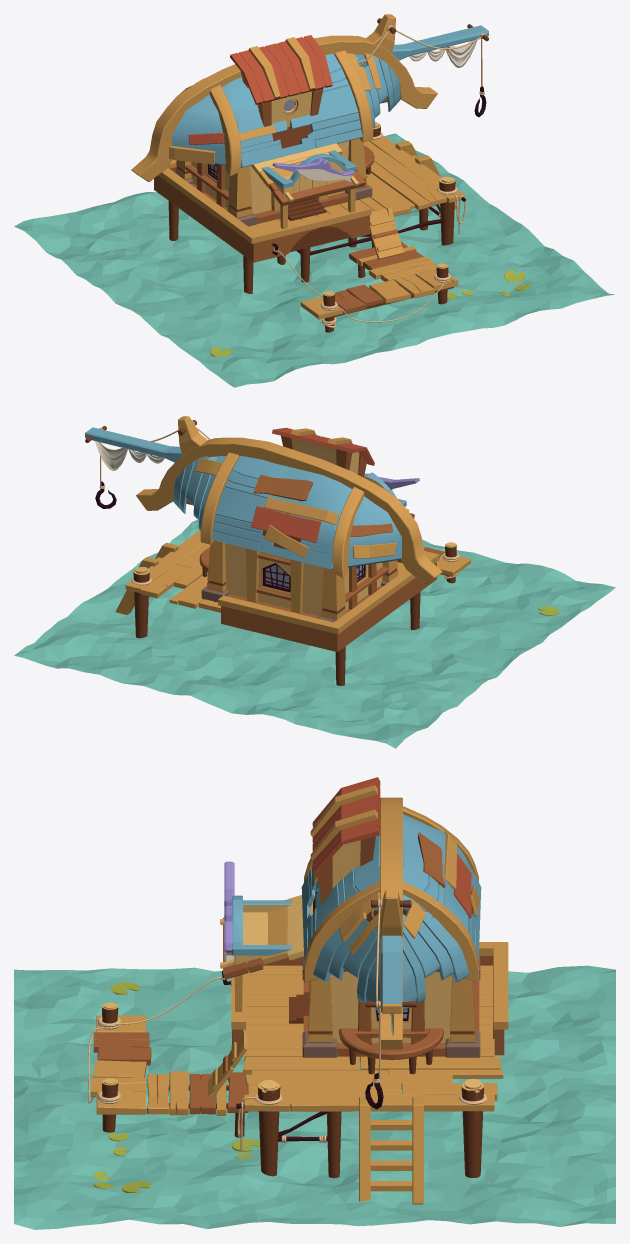
Rendered from draft_punk_detali_fishermanhouse.fbx.
The picture shows the model from 3 angles, top to bottom: view 1: azimuth 30°, elevation 25°; view 2: azimuth 150°, elevation 25°; view 3: azimuth 270°, elevation 25°; orthographic projection. The views are drawn at different scales.
Parts seen in each view (by area): view 1: Plane.004, Cube.016, Cylinder.007, Cube.020, Cube.062, Cube.008, Cube.014, Cube.002, Cube.013, Cube.018, Cube.022, Cube.009 (+21 smaller); view 2: Plane.004, Cube.016, Cylinder.007, Cube, Cube.008, Cube.062, Cube.002, Cube.064, Cube.066, Cube.022, Cube.023, Cube.073 (+15 smaller); view 3: Plane.004, Cube.016, Cube.062, Cube.001, Cube.014, Cube.020, Cube.013, Cube.021, Cube, Cylinder, Cylinder.007, Cube.002 (+23 smaller).
Boxes of the visible parts, x1,y1,x2,y2 form: Plane.004: [14, 133, 614, 387]; Cube.016: [172, 53, 400, 167]; Cylinder.007: [131, 35, 437, 181]; Cube.020: [230, 35, 332, 104]; Cube.062: [363, 135, 464, 216]; Cube.008: [154, 166, 369, 262]; Cube.014: [300, 269, 458, 319]; Cube.002: [175, 138, 367, 218]; Cube.013: [349, 241, 436, 281]; Cube.018: [261, 150, 356, 195]; Cube.022: [180, 85, 241, 176]; Cube.009: [246, 205, 371, 243]; Plane.004: [14, 519, 615, 748]; Cube.016: [173, 455, 401, 569]; Cylinder.007: [136, 437, 442, 583]; Cube: [225, 543, 382, 616]; Cube.008: [221, 560, 436, 652]; Cube.062: [125, 530, 210, 608]; Cube.002: [206, 540, 398, 620]; Cube.064: [218, 595, 343, 634]; Cube.066: [251, 506, 321, 542]; Cube.022: [332, 487, 393, 578]; Cube.023: [85, 427, 217, 462]; Cube.073: [245, 548, 303, 613]; Plane.004: [14, 965, 615, 1229]; Cube.016: [301, 814, 481, 1011]; Cube.062: [243, 1056, 503, 1111]; Cube.001: [244, 965, 494, 1062]; Cube.014: [91, 1015, 151, 1114]; Cube.020: [310, 777, 380, 875]; Cube.013: [146, 1071, 248, 1115]; Cube.021: [304, 881, 478, 982]; Cube: [330, 971, 452, 1042]; Cylinder: [257, 1079, 483, 1177]; Cylinder.007: [380, 797, 402, 1049]; Cube.002: [307, 975, 475, 1042].
Size of the model in its own units: 545 by 289 by 534.
